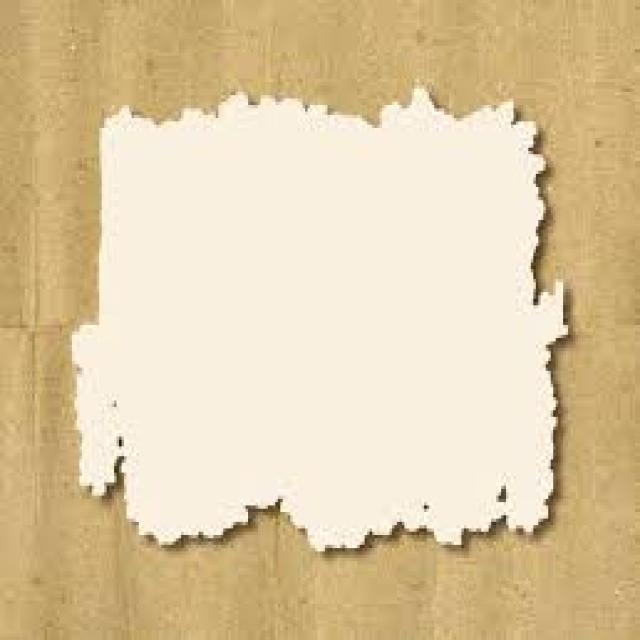cardboard: (0, 0, 638, 637), (70, 92, 566, 558)
